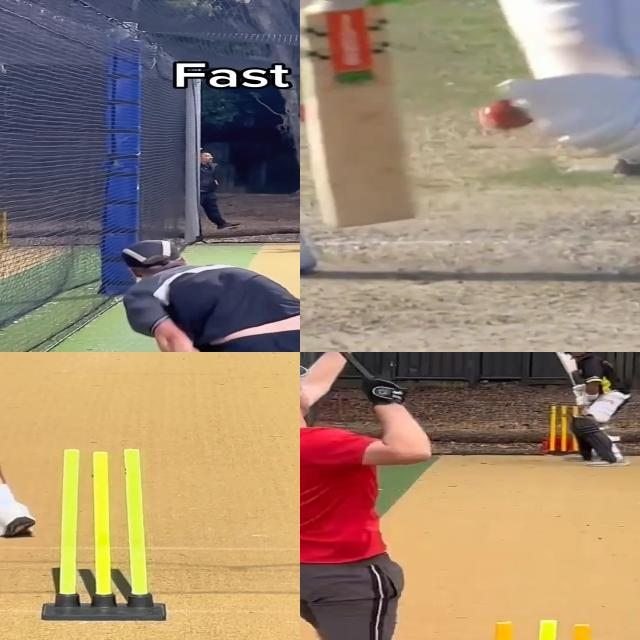Cricket ball: (476, 96, 536, 133)
Stumps: (56, 446, 156, 624), (548, 404, 580, 457)
